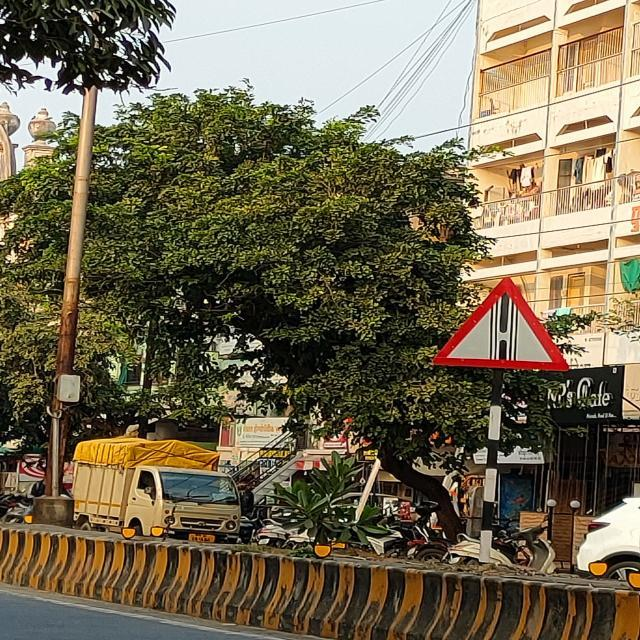gap in median: (427, 272, 576, 378)
